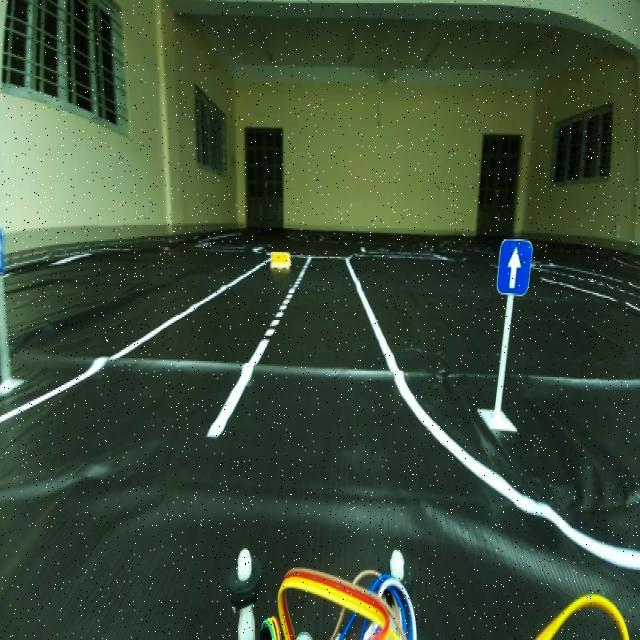onewayroad: (498, 236, 531, 293)
roadblock: (270, 244, 292, 272)
